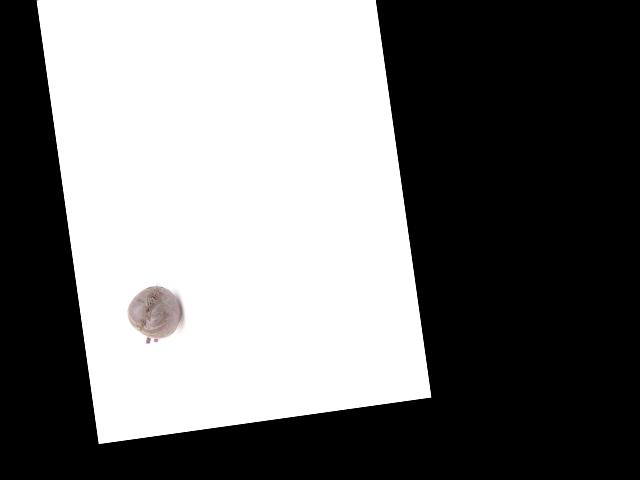beet: (124, 282, 185, 345)
